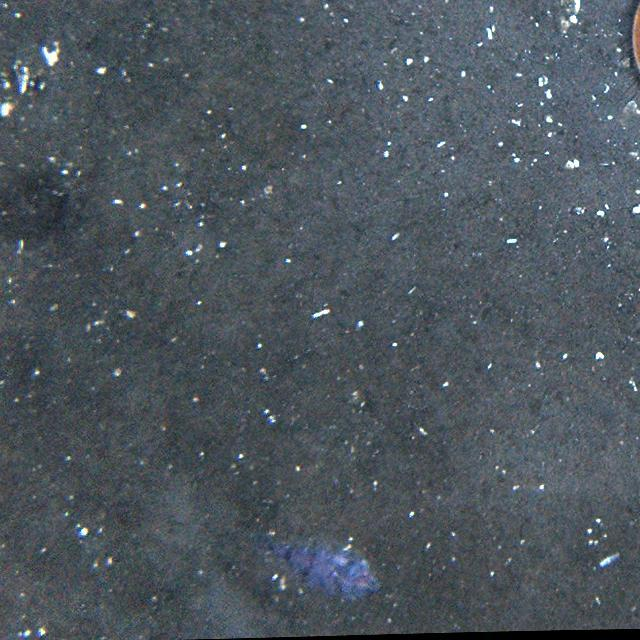flatfish: (257, 527, 383, 606)
